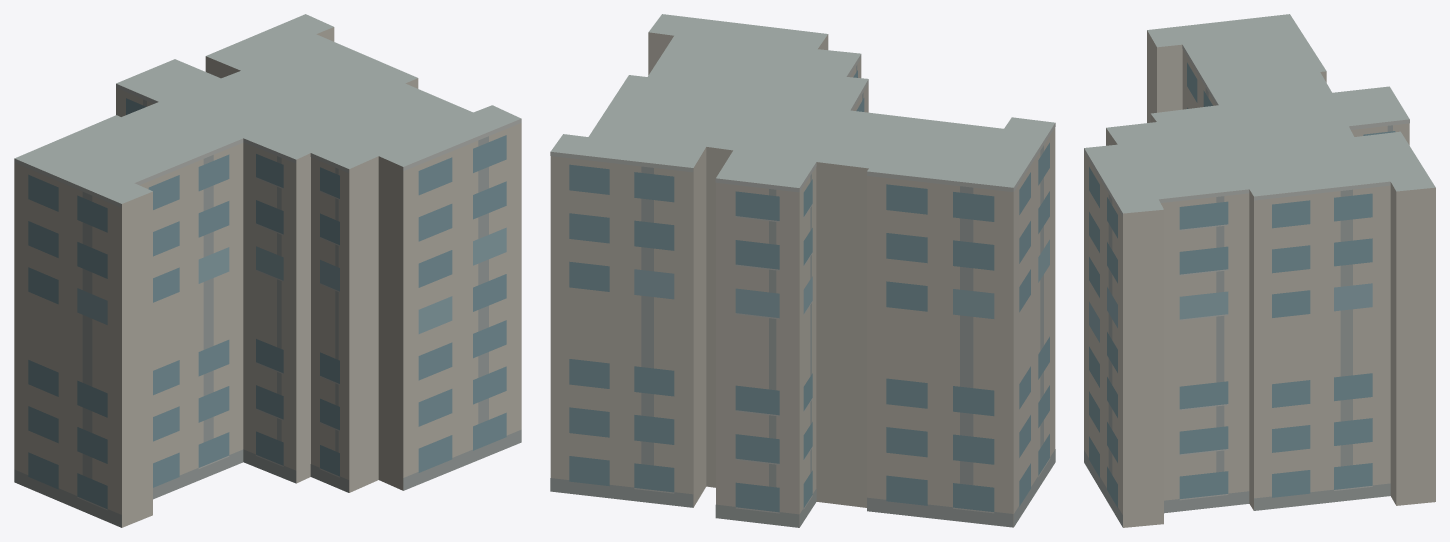
The model's file is survey-upis-32647060.glb.
The picture shows the model from 3 angles, left to right: view 1: azimuth 30°, elevation 25°; view 2: azimuth 150°, elevation 25°; view 3: azimuth 270°, elevation 25°; orthographic projection. The views are drawn at different scales.
Visible parts, largest first — view 1: survey-upis-32647060.tmp; view 2: survey-upis-32647060.tmp; view 3: survey-upis-32647060.tmp.
Part boxes in pixels (box(x1,y1,x2,y2)): survey-upis-32647060.tmp: box(14, 14, 521, 527); survey-upis-32647060.tmp: box(550, 14, 1055, 527); survey-upis-32647060.tmp: box(1084, 14, 1435, 527).
Bounding box in the file's own units: 25.86 × 19 × 19.28.
